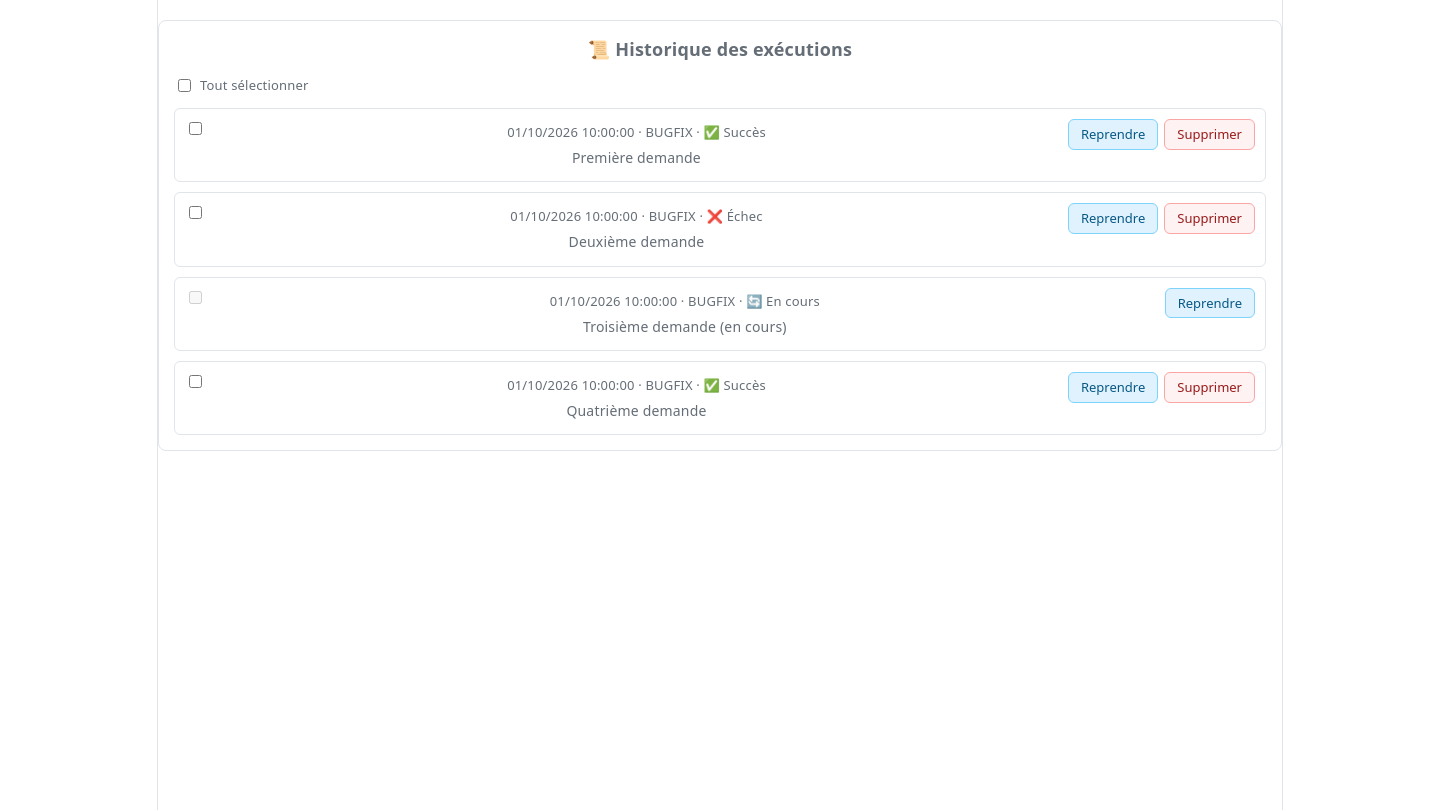
Scenario: HistoryPanel — sélection multiple › coche des lignes, affiche le compteur et l’état indéterminé de « Tout sélectionner »
Check: the text "Première demande" is shown, box [572,148,701,167]
Click the checkbox named "Première demande".
click(196, 129)  # box [189,122,202,135]
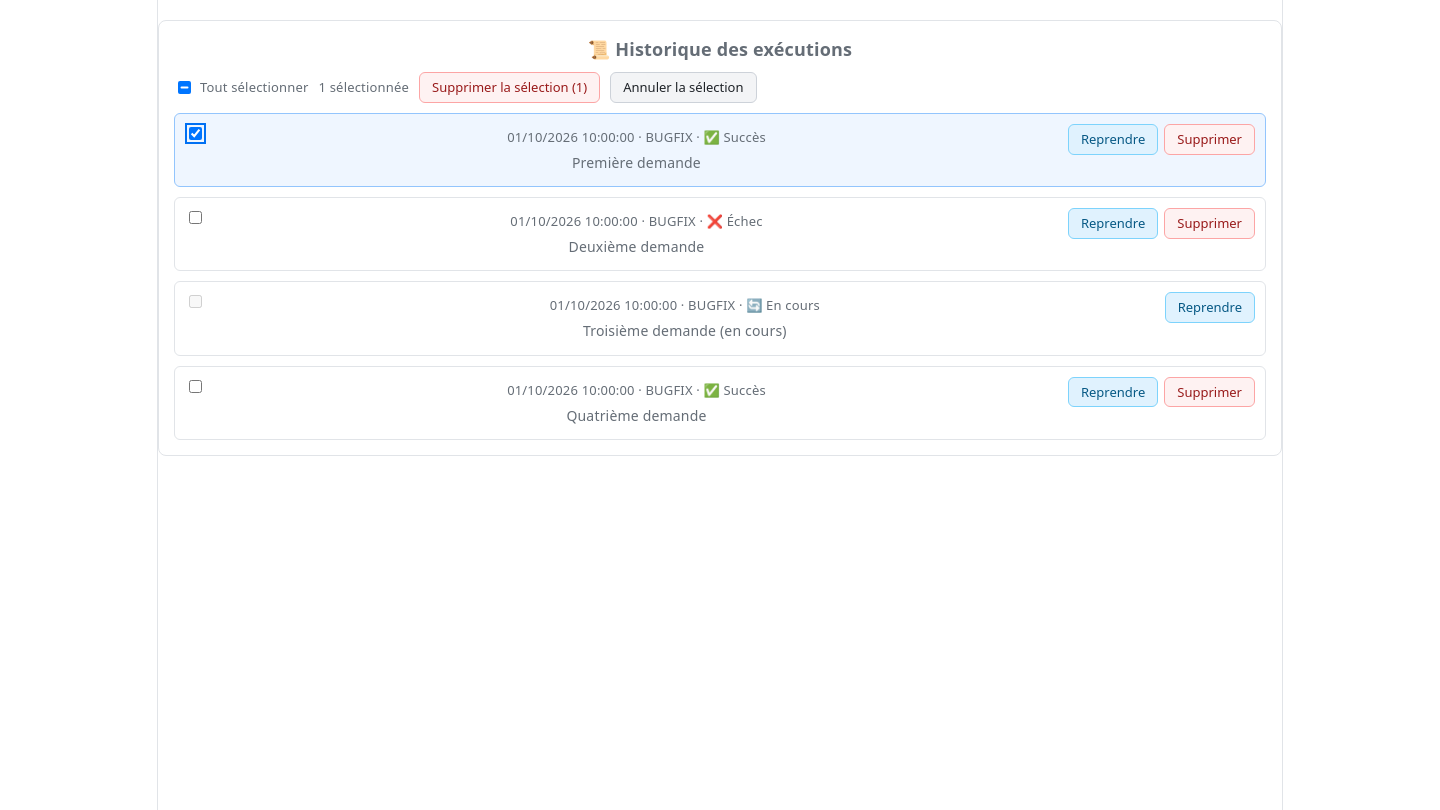
Check: the text "1 sélectionnée" is shown, box [318,74,409,101]
Click the checkbox labelled "Tout sélectionner".
click(184, 88)  # box [178,81,191,94]
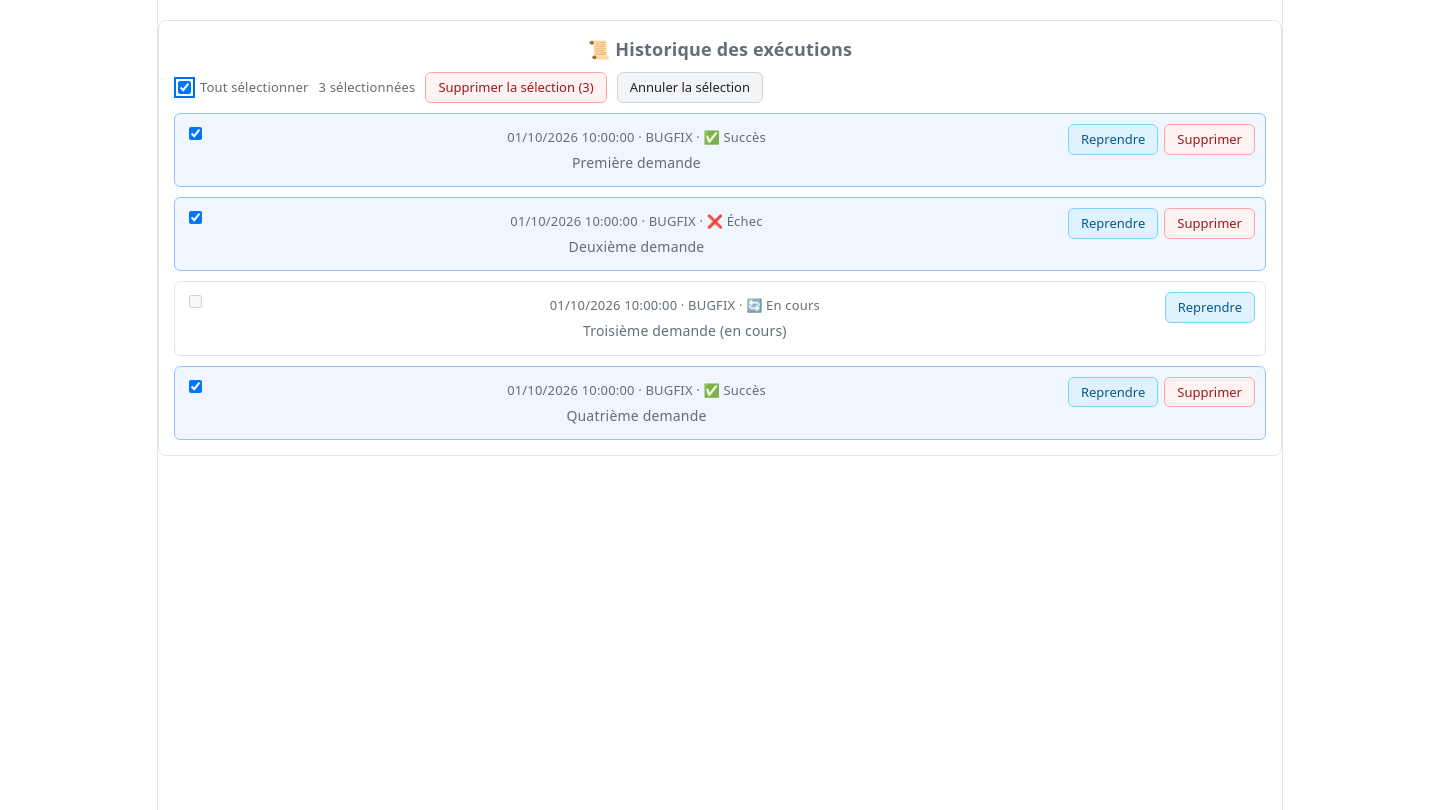
Check: the checkbox labelled "Tout sélectionner" is checked, box [178,81,191,94]
Check: the text "3 sélectionnées" is shown, box [318,74,415,101]
